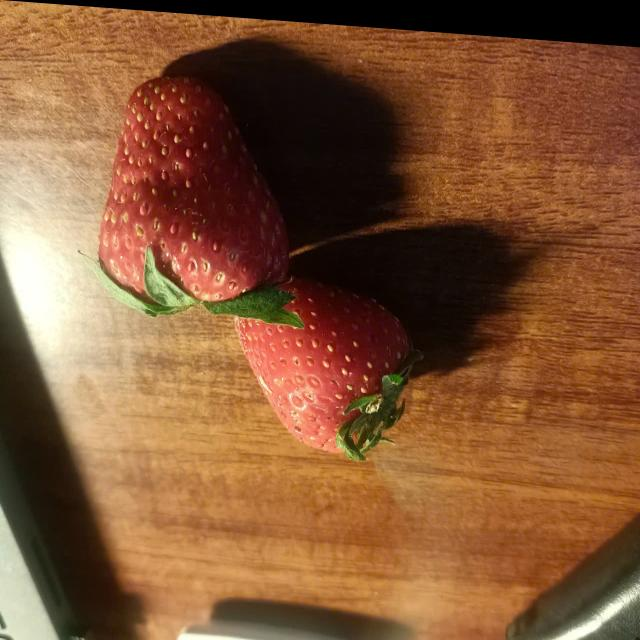DauTay: (63, 49, 447, 456)
